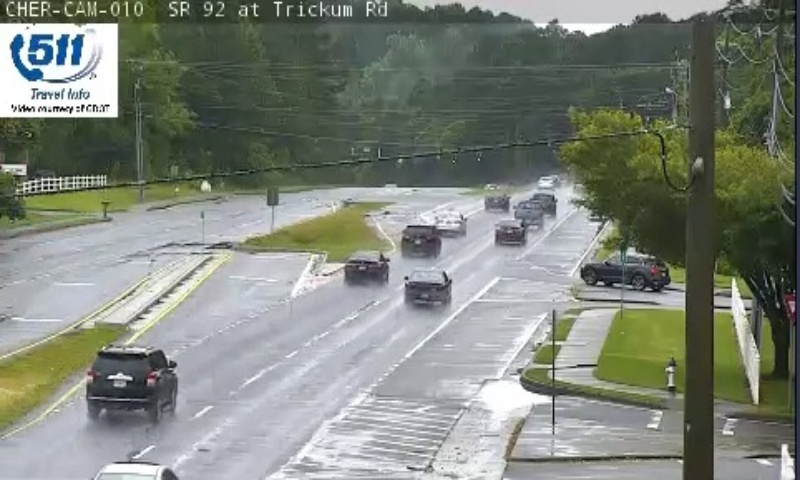car: (86, 344, 177, 409), (404, 268, 451, 301), (343, 250, 388, 281), (401, 223, 439, 256), (512, 200, 541, 227), (433, 209, 464, 234), (494, 220, 526, 243)
